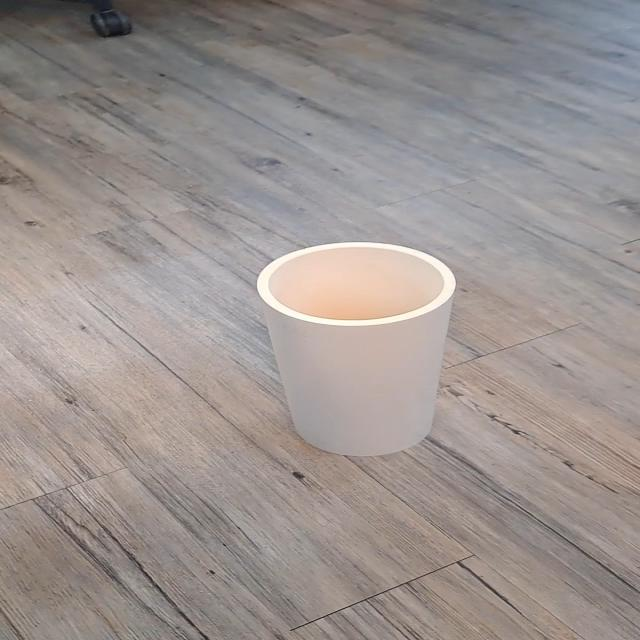CORAL: (226, 234, 487, 476)
